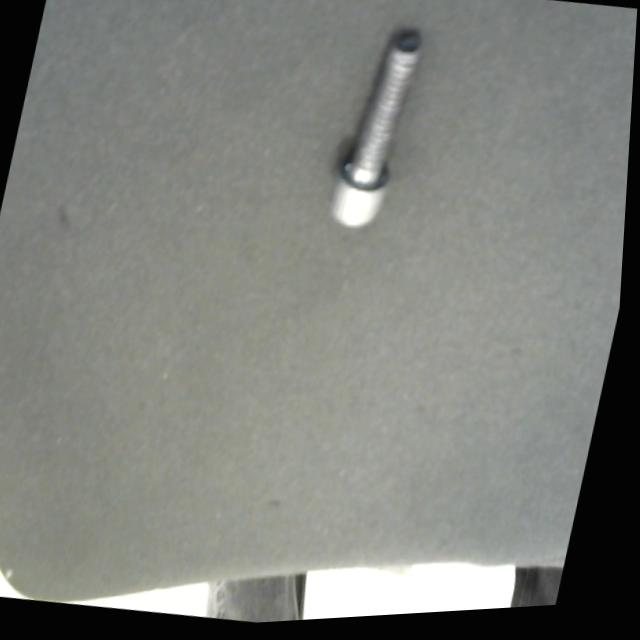SocketHeadCapScrew: (308, 14, 435, 253)
